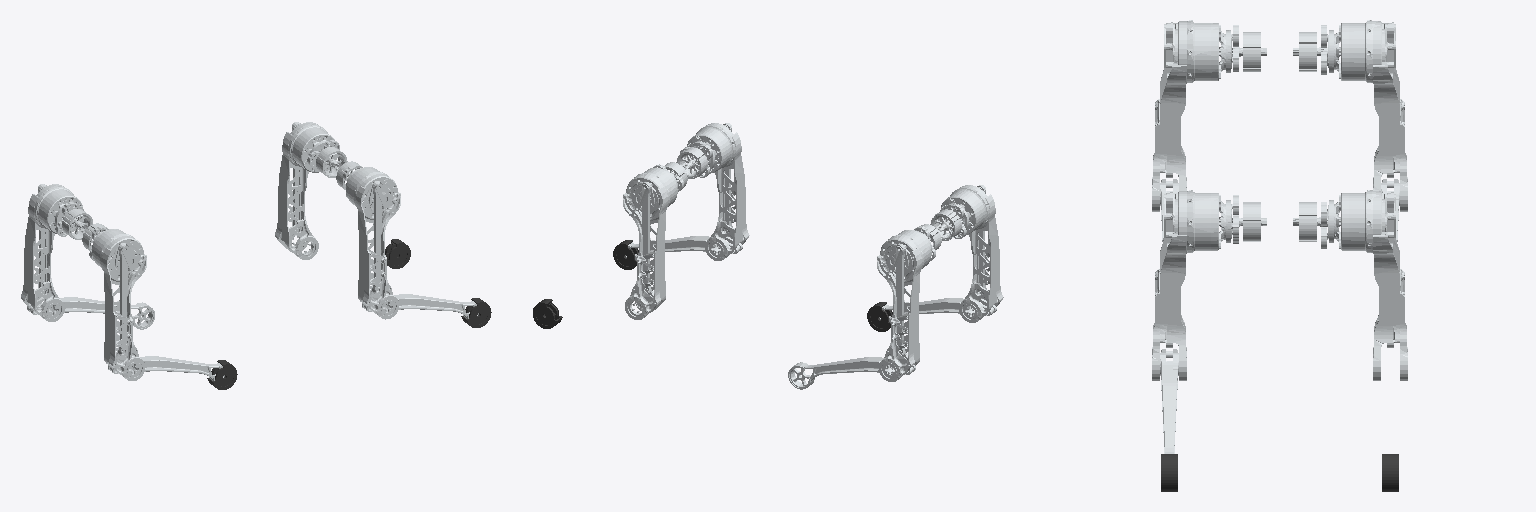
URDF robot description (raibot):
<?xml version="1.0" encoding="utf-8"?>
<!-- This URDF was automatically created by SolidWorks to URDF Exporter! Originally created by [author] ([email redacted]) 
     Commit Version: 1.6.0-1-g15f4949  Build Version: 1.6.7594.29634
     For more information, please see http://wiki.ros.org/sw_urdf_exporter -->
<robot
  name="raibot">
  <link
    name="base">
    <inertial>
      <origin
        xyz="-0.00029991 0.00016404 -0.03744115"
        rpy="0 0 0" />
      <mass
        value="12.37167760" />
      <inertia
        ixx="0.09099956"
        ixy="0.00086574"
        ixz="0.00061281"
        iyy="0.31985024"
        iyz="-0.00010439"
        izz="0.38017107" />
    </inertial>
    <visual>
      <origin
        xyz="0 0 0"
        rpy="0 0 0" />
      <geometry>
        <mesh
          filename="base.STL" />
      </geometry>
      <material
        name="">
        <color
          rgba="0.75294 0.75294 0.75294 1" />
      </material>
    </visual>
    <collision>
      <origin
        xyz="0 0 -0.03625"
        rpy="0 0 0" />
      <geometry>
        <box size="0.7104 0.276 0.120"/>
      </geometry>
    </collision>
  </link>
  <link
    name="LF_HIP">
    <inertial>
      <origin
        xyz="-0.01076416 -0.02789344 0.00001059"
        rpy="0 0 0" />
      <mass
        value="1.29077719" />
      <inertia
        ixx="0.00098519"
        ixy="-0.00038663"
        ixz="0.00000019"
        iyy="0.00159759"
        iyz="-0.00000034"
        izz="0.00161789" />
    </inertial>
    <visual>
      <origin
        xyz="0 0 0"
        rpy="0 0 0" />
      <geometry>
        <mesh
          filename="LF_HIP.STL" />
      </geometry>
      <material
        name="">
        <color
          rgba="0.89804 0.91765 0.92941 1" />
      </material>
    </visual>
  </link>
  <joint
    name="LF_HAA"
    type="revolute">
    <origin
      xyz="0.3072 0.08 -0.03625"
      rpy="0 0 0" />
    <parent
      link="base" />
    <child
      link="LF_HIP" />
    <axis
      xyz="1 0 0" />
    <limit
      lower="-1.5708"
      upper="1.5708"
      effort="63.45"
      velocity="25.7" />
    <dynamics
      rotor_inertia="0.005741839" />
  </joint>
  <link
    name="LF_THIGH">
    <inertial>
      <origin
        xyz="-0.00274830 -0.03667330 -0.03252796"
        rpy="0 0 0" />
      <mass
        value="1.96391657" />
      <inertia
        ixx="0.01250320"
        ixy="-0.00019782"
        ixz="0.00056475"
        iyy="0.01152322"
        iyz="-0.00237505"
        izz="0.00260694" />
    </inertial>
    <visual>
      <origin
        xyz="0 0 0"
        rpy="0 0 0" />
      <geometry>
        <mesh
          filename="LF_THIGH.STL" />
      </geometry>
      <material
        name="">
        <color
          rgba="0.89804 0.91765 0.92941 1" />
      </material>
    </visual>
    <collision>
      <origin rpy="1.57079632679 0 0" xyz="0 0 -0.240"/>
      <geometry>
        <cylinder length="0.053" radius="0.0265"/>
      </geometry>
    </collision>
  </link>
  <joint
    name="LF_HFE"
    type="revolute">
    <origin
      xyz="0 0.0889 0"
      rpy="0 0 0" />
    <parent
      link="LF_HIP" />
    <child
      link="LF_THIGH" />
    <axis
      xyz="0 1 0" />
    <limit
      lower="-6.2832"
      upper="6.2832"
      effort="63.45"
      velocity="25.7" />
    <dynamics
       rotor_inertia="0.005741839" />
  </joint>
  <link
    name="LF_SHANK">
    <inertial>
      <origin
        xyz="0.00130151 0.00028383 -0.07226528"
        rpy="0 0 0" />
      <mass
        value="0.29554748" />
      <inertia
        ixx="0.00272392"
        ixy="-0.00000023"
        ixz="-0.00006457"
        iyy="0.00273312"
        iyz="0.00000543"
        izz="0.00008268" />
    </inertial>
    <visual>
      <origin
        xyz="0 0 0"
        rpy="0 0 0" />
      <geometry>
        <mesh
          filename="LF_SHANK.STL" />
      </geometry>
      <material
        name="">
        <color
          rgba="0.898039215686275 0.917647058823529 0.929411764705882 1" />
      </material>
    </visual>
    <collision>
      <origin rpy="0 1.57100577 0" xyz="0.0103 0 -0.1544"/>
      <geometry>
        <box size="0.1711 0.020 0.0253"/>
      </geometry>
    </collision>
  </link>
  <joint
    name="LF_KFE"
    type="revolute">
    <origin
      xyz="0 0 -0.24"
      rpy="0 0 0" />
    <parent
      link="LF_THIGH" />
    <child
      link="LF_SHANK" />
    <axis
      xyz="0 1 0" />
    <limit
      lower="-2.4696"
      upper="-0.0262"
      effort="63.45"
      velocity="25.7" />
    <dynamics
       rotor_inertia="0.005741839" />
  </joint>
  <link
    name="LF_FOOT">
    <inertial>
      <origin
        xyz="-0.00051991 -0.00103462 -0.00171611"
        rpy="0 0 0" />
      <mass
        value="0.06096633" />
      <inertia
        ixx="0.00001314"
        ixy="-0.00000003"
        ixz="-0.00000063"
        iyy="0.00001600"
        iyz="-0.00000011"
        izz="0.00001501" />
    </inertial>
    <visual>
      <origin
        xyz="0 0 0"
        rpy="0 0 0" />
      <geometry>
        <mesh
          filename="LF_FOOT.STL" />
      </geometry>
      <material
        name="">
        <color
          rgba="0.298039215686275 0.298039215686275 0.298039215686275 1" />
      </material>
    </visual>
    <collision>
      <origin rpy="1.57079632679 0 0" xyz="0 0 0"/>
      <geometry>
        <cylinder length="0.025" radius="0.0295"/>
      </geometry>
    </collision>
  </link>
  <joint
    name="LF_S2F"
    type="fixed">
    <origin
      xyz="0 0 -0.24"
      rpy="0 0 0" />
    <parent
      link="LF_SHANK" />
    <child
      link="LF_FOOT" />
    <axis
      xyz="0 0 0" />
  </joint>
  <link
    name="RF_HIP">
    <inertial>
      <origin
        xyz="-0.01073828 0.02789298 0.00001059"
        rpy="0 0 0" />
      <mass
        value="1.29077719" />
      <inertia
        ixx="0.00098523"
        ixy="0.00038772"
        ixz="0.00000010"
        iyy="0.00159830"
        iyz="0.00000034"
        izz="0.00161863" />
    </inertial>
    <visual>
      <origin
        xyz="0 0 0"
        rpy="0 0 0" />
      <geometry>
        <mesh
          filename="RF_HIP.STL" />
      </geometry>
      <material
        name="">
        <color
          rgba="0.898039215686275 0.917647058823529 0.929411764705882 1" />
      </material>
    </visual>
  </link>
  <joint
    name="RF_HAA"
    type="revolute">
    <origin
      xyz="0.3072 -0.08 -0.03625"
      rpy="0 0 0" />
    <parent
      link="base" />
    <child
      link="RF_HIP" />
    <axis
      xyz="1 0 0" />
    <limit
      lower="-1.5708"
      upper="1.5708"
      effort="63.45"
      velocity="25.7" />
    <dynamics
       rotor_inertia="0.005741839" />
  </joint>
  <link
    name="RF_THIGH">
    <inertial>
      <origin
        xyz="-0.00276626 0.03667330 -0.03253545"
        rpy="0 0 0" />
      <mass
        value="1.96391676" />
      <inertia
        ixx="0.01250229"
        ixy="0.00019679"
        ixz="0.00056362"
        iyy="0.01152207"
        iyz="0.00237461"
        izz="0.00260670" />
    </inertial>
    <visual>
      <origin
        xyz="0 0 0"
        rpy="0 0 0" />
      <geometry>
        <mesh
          filename="RF_THIGH.STL" />
      </geometry>
      <material
        name="">
        <color
          rgba="0.898039215686275 0.917647058823529 0.929411764705882 1" />
      </material>
    </visual>
    <collision>
      <origin rpy="1.57079632679 0 0" xyz="0 0 -0.240"/>
      <geometry>
        <cylinder length="0.053" radius="0.0265"/>
      </geometry>
    </collision>
  </link>
  <joint
    name="RF_HFE"
    type="revolute">
    <origin
      xyz="0 -0.0889 0"
      rpy="0 0 0" />
    <parent
      link="RF_HIP" />
    <child
      link="RF_THIGH" />
    <axis
      xyz="0 1 0" />
    <limit
      lower="-6.2832"
      upper="6.2832"
      effort="63.45"
      velocity="25.7" />
    <dynamics
       rotor_inertia="0.005741839" />
  </joint>
  <link
    name="RF_SHANK">
    <inertial>
      <origin
        xyz="0.00130082 0.00028383 -0.07226529"
        rpy="0 0 0" />
      <mass
        value="0.29554748" />
      <inertia
        ixx="0.00272392"
        ixy="-0.00000023"
        ixz="-0.00006457"
        iyy="0.00273312"
        iyz="0.00000543"
        izz="0.00008268" />
    </inertial>
    <visual>
      <origin
        xyz="0 0 0"
        rpy="0 0 0" />
      <geometry>
        <mesh
          filename="RF_SHANK.STL" />
      </geometry>
      <material
        name="">
        <color
          rgba="0.898039215686275 0.917647058823529 0.929411764705882 1" />
      </material>
    </visual>
    <collision>
      <origin rpy="0 1.57100577 0" xyz="0.0103 0 -0.1544"/>
      <geometry>
        <box size="0.1711 0.020 0.0253"/>
      </geometry>
    </collision>
  </link>
  <joint
    name="RF_KFE"
    type="revolute">
    <origin
      xyz="0 0 -0.24"
      rpy="0 0 0" />
    <parent
      link="RF_THIGH" />
    <child
      link="RF_SHANK" />
    <axis
      xyz="0 1 0" />
    <limit
      lower="-2.4696"
      upper="-0.0262"
      effort="63.45"
      velocity="25.7" />
    <dynamics
       rotor_inertia="0.005741839" />
  </joint>
  <link
    name="RF_FOOT">
    <inertial>
      <origin
        xyz="-0.00051991 -0.00103462 -0.00171611"
        rpy="0 0 0" />
      <mass
        value="0.06096633" />
      <inertia
        ixx="0.00001314"
        ixy="-0.00000003"
        ixz="-0.00000063"
        iyy="0.00001600"
        iyz="-0.00000011"
        izz="0.00001501" />
    </inertial>
    <visual>
      <origin
        xyz="0 0 0"
        rpy="0 0 0" />
      <geometry>
        <mesh
          filename="RF_FOOT.STL" />
      </geometry>
      <material
        name="">
        <color
          rgba="0.298039215686275 0.298039215686275 0.298039215686275 1" />
      </material>
    </visual>
    <collision>
      <origin rpy="1.57079632679 0 0" xyz="0 0 0"/>
      <geometry>
        <cylinder length="0.025" radius="0.0295"/>
      </geometry>
    </collision>
  </link>
  <joint
    name="RF_S2F"
    type="fixed">
    <origin
      xyz="0 0 -0.24"
      rpy="0 0 0" />
    <parent
      link="RF_SHANK" />
    <child
      link="RF_FOOT" />
    <axis
      xyz="0 0 0" />
  </joint>
  <link
    name="LH_HIP">
    <inertial>
      <origin
        xyz="0.01073455 -0.02789344 -0.00000109"
        rpy="0 0 0" />
      <mass
        value="1.29077719" />
      <inertia
        ixx="0.00098523"
        ixy="0.00038778"
        ixz="0.00000000"
        iyy="0.00159841"
        iyz="0.00000013"
        izz="0.00161867" />
    </inertial>
    <visual>
      <origin
        xyz="0 0 0"
        rpy="0 0 0" />
      <geometry>
        <mesh
          filename="LH_HIP.STL" />
      </geometry>
      <material
        name="">
        <color
          rgba="0.898039215686275 0.917647058823529 0.929411764705882 1" />
      </material>
    </visual>
  </link>
  <joint
    name="LH_HAA"
    type="revolute">
    <origin
      xyz="-0.3072 0.08 -0.03625"
      rpy="0 0 0" />
    <parent
      link="base" />
    <child
      link="LH_HIP" />
    <axis
      xyz="1 0 0" />
    <limit
      lower="-1.5708"
      upper="1.5708"
      effort="63.45"
      velocity="25.7" />
    <dynamics
       rotor_inertia="0.005741839" />
  </joint>
  <link
    name="LH_THIGH">
    <inertial>
      <origin
        xyz="-0.00274824 -0.03667330 -0.03252704"
        rpy="0 0 0" />
      <mass
        value="1.96391657" />
      <inertia
        ixx="0.01250319"
        ixy="-0.00019783"
        ixz="0.00056475"
        iyy="0.01152322"
        iyz="-0.00237504"
        izz="0.00260694" />
    </inertial>
    <visual>
      <origin
        xyz="0 0 0"
        rpy="0 0 0" />
      <geometry>
        <mesh
          filename="LH_THIGH.STL" />
      </geometry>
      <material
        name="">
        <color
          rgba="0.898039215686275 0.917647058823529 0.929411764705882 1" />
      </material>
    </visual>
    <collision>
      <origin rpy="1.57079632679 0 0" xyz="0 0 -0.240"/>
      <geometry>
        <cylinder length="0.053" radius="0.0265"/>
      </geometry>
    </collision>
  </link>
  <joint
    name="LH_HFE"
    type="revolute">
    <origin
      xyz="0 0.0889 0"
      rpy="0 0 0" />
    <parent
      link="LH_HIP" />
    <child
      link="LH_THIGH" />
    <axis
      xyz="0 1 0" />
    <limit
      lower="-6.2832"
      upper="6.2832"
      effort="63.45"
      velocity="25.7" />
    <dynamics
       rotor_inertia="0.005741839" />
  </joint>
  <link
    name="LH_SHANK">
    <inertial>
      <origin
        xyz="0.00130151 0.00028383 -0.07226525"
        rpy="0 0 0" />
      <mass
        value="0.29554748" />
      <inertia
        ixx="0.00272392"
        ixy="-0.00000023"
        ixz="-0.00006457"
        iyy="0.00273312"
        iyz="0.00000543"
        izz="0.00008268" />
    </inertial>
    <visual>
      <origin
        xyz="0 0 0"
        rpy="0 0 0" />
      <geometry>
        <mesh
          filename="LH_SHANK.STL" />
      </geometry>
      <material
        name="">
        <color
          rgba="0.898039215686275 0.917647058823529 0.929411764705882 1" />
      </material>
    </visual>
    <collision>
      <origin rpy="0 1.57100577 0" xyz="0.0103 0 -0.1544"/>
      <geometry>
        <box size="0.1711 0.020 0.0253"/>
      </geometry>
    </collision>
  </link>
  <joint
    name="LH_KFE"
    type="revolute">
    <origin
      xyz="0 0 -0.24"
      rpy="0 0 0" />
    <parent
      link="LH_THIGH" />
    <child
      link="LH_SHANK" />
    <axis
      xyz="0 1 0" />
    <limit
      lower="-2.4696"
      upper="-0.0262"
      effort="63.45"
      velocity="25.7" />
    <dynamics
       rotor_inertia="0.005741839" />
  </joint>
  <link
    name="LH_FOOT">
    <inertial>
      <origin
        xyz="-0.00051991 -0.00103462 -0.00171611"
        rpy="0 0 0" />
      <mass
        value="0.06096633" />
      <inertia
        ixx="0.00001314"
        ixy="-0.00000003"
        ixz="-0.00000063"
        iyy="0.00001600"
        iyz="-0.00000011"
        izz="0.00001501" />
    </inertial>
    <visual>
      <origin
        xyz="0 0 0"
        rpy="0 0 0" />
      <geometry>
        <mesh
          filename="LH_FOOT.STL" />
      </geometry>
      <material
        name="">
        <color
          rgba="0.298039215686275 0.298039215686275 0.298039215686275 1" />
      </material>
    </visual>
    <collision>
      <origin rpy="1.57079632679 0 0" xyz="0 0 0"/>
      <geometry>
        <cylinder length="0.025" radius="0.0295"/>
      </geometry>
    </collision>
  </link>
  <joint
    name="LH_S2F"
    type="fixed">
    <origin
      xyz="0 0 -0.24"
      rpy="0 0 0" />
    <parent
      link="LH_SHANK" />
    <child
      link="LH_FOOT" />
    <axis
      xyz="0 0 0" />
  </joint>
  <link
    name="RH_HIP">
    <inertial>
      <origin
        xyz="0.01074969 0.02789298 -0.00001644"
        rpy="0 0 0" />
      <mass
        value="1.29077719" />
      <inertia
        ixx="0.00098517"
        ixy="-0.00038732"
        ixz="0.00000022"
        iyy="0.00159798"
        iyz="-0.00000061"
        izz="0.00161837" />
    </inertial>
    <visual>
      <origin
        xyz="0 0 0"
        rpy="0 0 0" />
      <geometry>
        <mesh
          filename="RH_HIP.STL" />
      </geometry>
      <material
        name="">
        <color
          rgba="0.898039215686275 0.917647058823529 0.929411764705882 1" />
      </material>
    </visual>
  </link>
  <joint
    name="RH_HAA"
    type="revolute">
    <origin
      xyz="-0.3072 -0.08 -0.03625"
      rpy="0 0 0" />
    <parent
      link="base" />
    <child
      link="RH_HIP" />
    <axis
      xyz="1 0 0" />
    <limit
      lower="-1.5708"
      upper="1.5708"
      effort="63.45"
      velocity="25.7" />
    <dynamics
       rotor_inertia="0.005741839" />
  </joint>
  <link
    name="RH_THIGH">
    <inertial>
      <origin
        xyz="-0.00275637 0.03667150 -0.03254657"
        rpy="0 0 0" />
      <mass
        value="1.96391676" />
      <inertia
        ixx="0.01250094"
        ixy="0.00019734"
        ixz="0.00056417"
        iyy="0.01152066"
        iyz="0.00237400"
        izz="0.00260716" />
    </inertial>
    <visual>
      <origin
        xyz="0 0 0"
        rpy="0 0 0" />
      <geometry>
        <mesh
          filename="RH_THIGH.STL" />
      </geometry>
      <material
        name="">
        <color
          rgba="0.898039215686275 0.917647058823529 0.929411764705882 1" />
      </material>
    </visual>
    <collision>
      <origin rpy="1.57079632679 0 0" xyz="0 0 -0.240"/>
      <geometry>
        <cylinder length="0.053" radius="0.0265"/>
      </geometry>
    </collision>
  </link>
  <joint
    name="RH_HFE"
    type="revolute">
    <origin
      xyz="0 -0.0889 0"
      rpy="0 0 0" />
    <parent
      link="RH_HIP" />
    <child
      link="RH_THIGH" />
    <axis
      xyz="0 1 0" />
    <limit
      lower="-6.2832"
      upper="6.2832"
      effort="63.45"
      velocity="25.7" />
    <dynamics
       rotor_inertia="0.005741839" />
  </joint>
  <link
    name="RH_SHANK">
    <inertial>
      <origin
        xyz="0.00130151 0.00028383 -0.07226529"
        rpy="0 0 0" />
      <mass
        value="0.29554748 " />
      <inertia
        ixx="0.00272392"
        ixy="-0.00000023"
        ixz="-0.00006457"
        iyy="0.00273312"
        iyz="0.00000543"
        izz="0.00008268" />
    </inertial>
    <visual>
      <origin
        xyz="0 0 0"
        rpy="0 0 0" />
      <geometry>
        <mesh
          filename="RH_SHANK.STL" />
      </geometry>
      <material
        name="">
        <color
          rgba="0.898039215686275 0.917647058823529 0.929411764705882 1" />
      </material>
    </visual>
    <collision>
      <origin rpy="0 1.57100577 0" xyz="0.0103 0 -0.1544"/>
      <geometry>
        <box size="0.1711 0.020 0.0253"/>
      </geometry>
    </collision>
  </link>
  <joint
    name="RH_KFE"
    type="revolute">
    <origin
      xyz="0 0 -0.24"
      rpy="0 0 0" />
    <parent
      link="RH_THIGH" />
    <child
      link="RH_SHANK" />
    <axis
      xyz="0 1 0" />
    <limit
      lower="-2.4696"
      upper="-0.0262"
      effort="63.45"
      velocity="25.7" />
    <dynamics
       rotor_inertia="0.005741839" />
  </joint>
  <link
    name="RH_FOOT">
    <inertial>
      <origin
        xyz="-0.00051991 -0.00103462 -0.00171611"
        rpy="0 0 0" />
      <mass
        value="0.06096633" />
      <inertia
        ixx="0.00001314"
        ixy="-0.00000003"
        ixz="-0.00000063"
        iyy="0.00001600"
        iyz="-0.00000011"
        izz="0.00001501" />
    </inertial>
    <visual>
      <origin
        xyz="0 0 0"
        rpy="0 0 0" />
      <geometry>
        <mesh
          filename="RH_FOOT.STL" />
      </geometry>
      <material
        name="">
        <color
          rgba="0.298039215686275 0.298039215686275 0.298039215686275 1" />
      </material>
    </visual>
    <collision>
      <origin rpy="1.57079632679 0 0" xyz="0 0 0"/>
      <geometry>
        <cylinder length="0.025" radius="0.0295"/>
      </geometry>
    </collision>
  </link>
  <joint
    name="RH_S2F"
    type="fixed">
    <origin
      xyz="0 0 -0.24"
      rpy="0 0 0" />
    <parent
      link="RH_SHANK" />
    <child
      link="RH_FOOT" />
    <axis
      xyz="0 0 0" />
  </joint>
</robot>

--- What the picture shows (computed from the rendered views, not written in the file) ---
The picture shows the robot from 3 angles, left to right: view 1: azimuth 30°, elevation 25°; view 2: azimuth 150°, elevation 25°; view 3: azimuth 270°, elevation 25°; orthographic projection.
Robot: raibot — 17 links, 16 joints (12 revolute, 4 fixed); root link base; default pose: joints at zero except 4 at the middle of their limits (LF_KFE = -1.25, RF_KFE = -1.25, LH_KFE = -1.25, RH_KFE = -1.25).
Links seen in each view (by area): view 1: RH_THIGH, RF_THIGH, LF_THIGH, LH_THIGH, LH_SHANK, RH_SHANK, RF_SHANK, LF_FOOT, RF_FOOT, RH_FOOT; view 2: LF_THIGH, LH_THIGH, RF_THIGH, RH_THIGH, LH_SHANK, RF_SHANK, RH_SHANK, LF_FOOT, RF_FOOT, RH_FOOT; view 3: RF_THIGH, LF_THIGH, LH_THIGH, RH_THIGH, RF_SHANK, LF_FOOT, RF_FOOT.
Link boxes in pixels (box(x1,y1,x2,y2)): RH_THIGH: box(82, 223, 146, 380); RF_THIGH: box(336, 161, 400, 319); LF_THIGH: box(275, 122, 347, 259); LH_THIGH: box(21, 184, 92, 321); LH_SHANK: box(27, 297, 154, 329); RH_SHANK: box(108, 356, 224, 380); RF_SHANK: box(362, 294, 478, 318); LF_FOOT: box(385, 239, 410, 268); RF_FOOT: box(461, 298, 491, 327); RH_FOOT: box(207, 360, 237, 389); LF_THIGH: box(623, 162, 687, 319); LH_THIGH: box(877, 224, 941, 381); RF_THIGH: box(676, 123, 749, 260); RH_THIGH: box(930, 185, 1003, 322); LH_SHANK: box(788, 357, 915, 389); RF_SHANK: box(625, 236, 742, 260); RH_SHANK: box(879, 298, 996, 322); LF_FOOT: box(533, 299, 562, 328); RF_FOOT: box(613, 240, 638, 269); RH_FOOT: box(867, 302, 892, 331); RF_THIGH: box(1152, 190, 1266, 380); LF_THIGH: box(1293, 190, 1407, 380); LH_THIGH: box(1293, 20, 1407, 211); RH_THIGH: box(1152, 20, 1266, 211); RF_SHANK: box(1160, 349, 1178, 453); LF_FOOT: box(1382, 454, 1398, 491); RF_FOOT: box(1161, 454, 1177, 491).
Size in the robot's own frame: 0.9227 by 0.3908 by 0.3936 metres.
Meshes: 17 distinct files referenced, 10 mesh visuals loaded (10 binary STL); not drawn: 7 (reference not matched to a file when rendering).